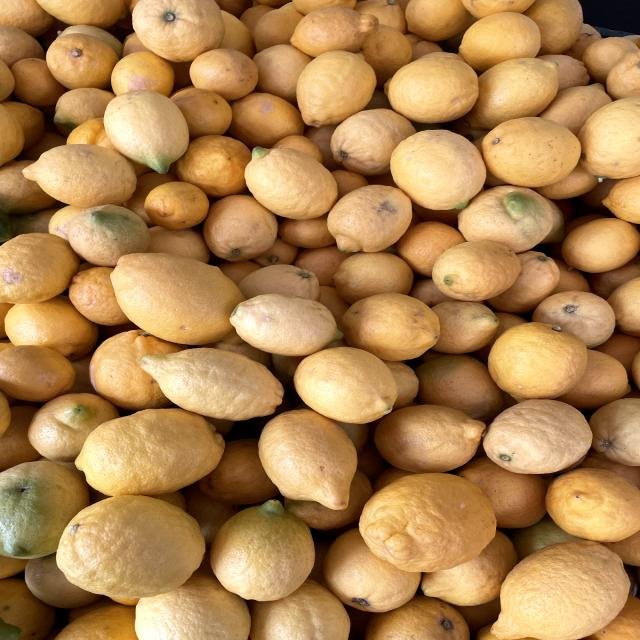lemon: (348, 462, 509, 580), (64, 402, 247, 501), (486, 538, 638, 640), (128, 335, 285, 425), (109, 247, 247, 348), (208, 491, 324, 609), (279, 338, 417, 432), (479, 314, 597, 407), (387, 121, 496, 218), (100, 86, 203, 177), (241, 137, 347, 223), (321, 168, 415, 259), (289, 43, 384, 132), (227, 286, 344, 357), (427, 237, 537, 308)
